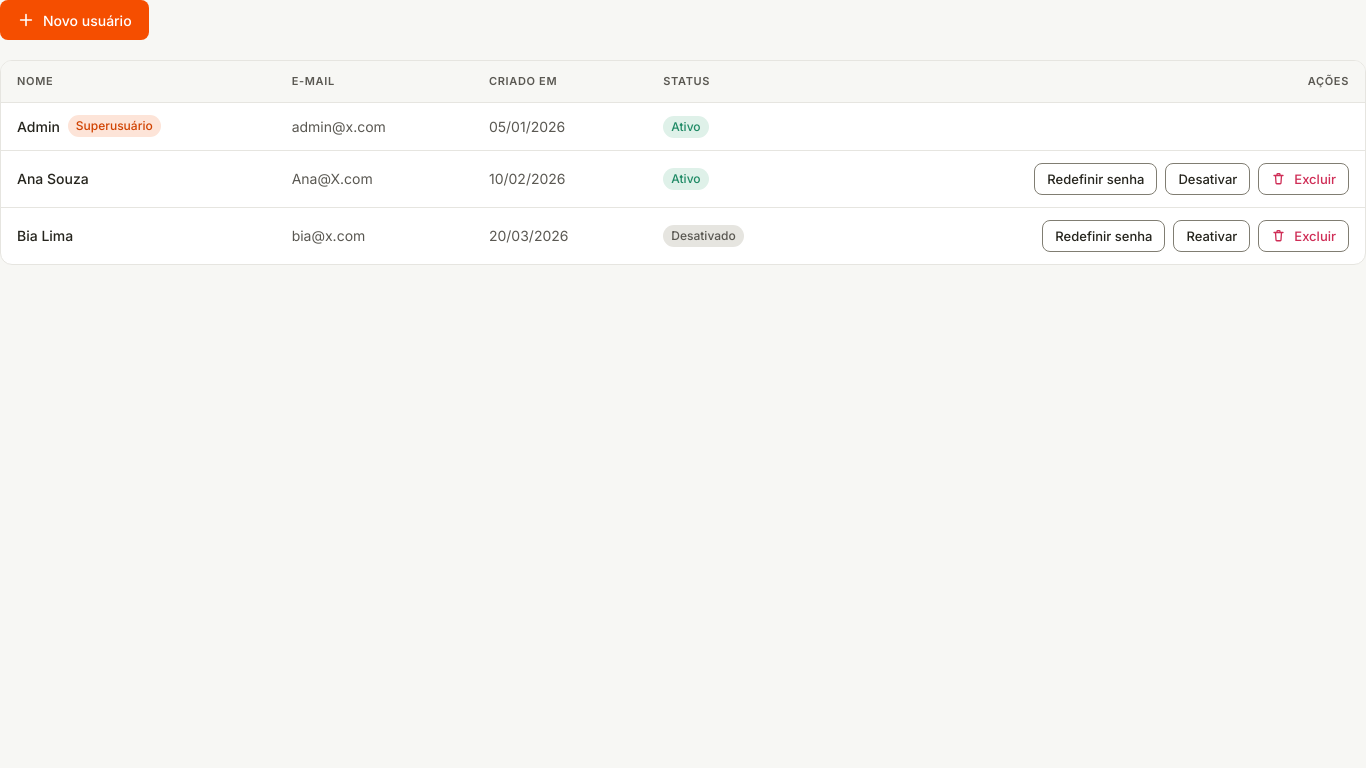
Test: UsersView: redefinir senha › erro de senha aparece no campo
Click the button with aria-label "Redefinir senha de Ana Souza": {"x": 1096, "y": 178} [1034,162,1157,194]
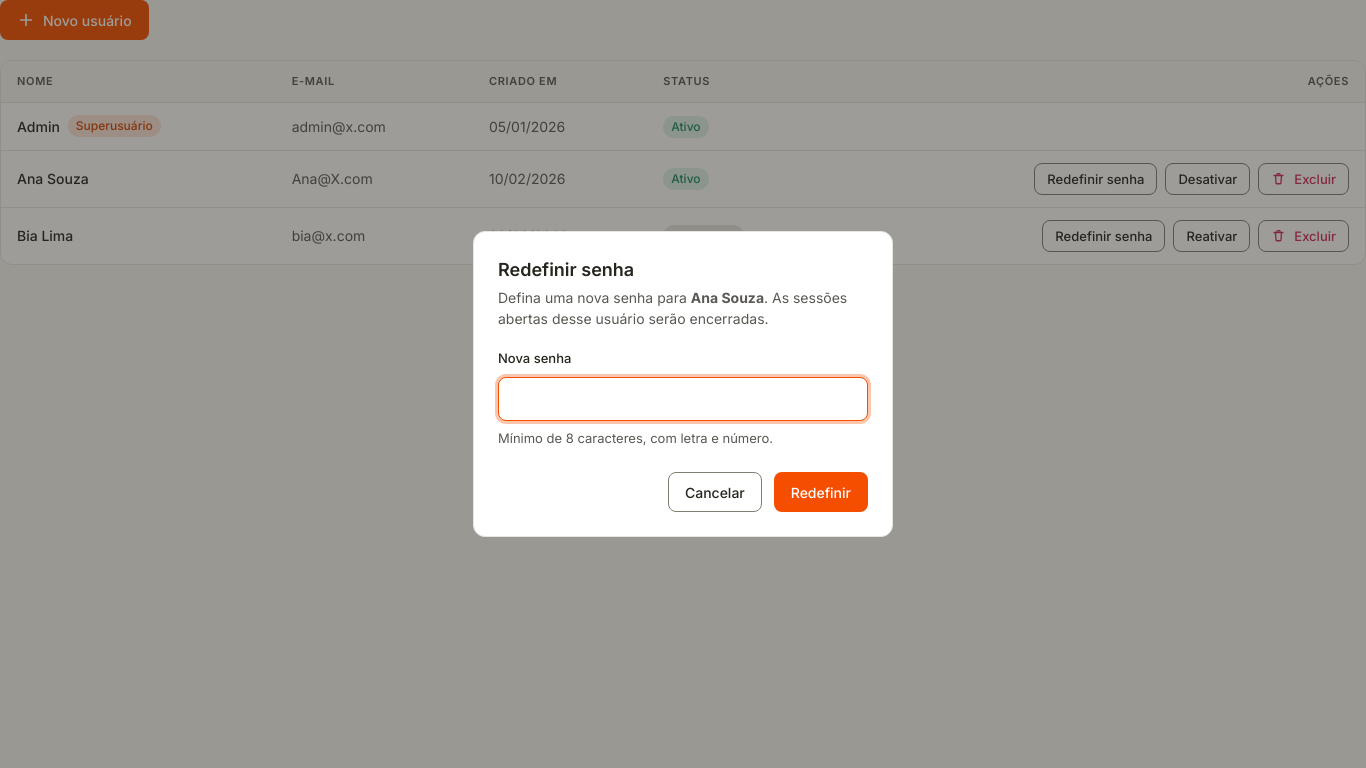
In the password field labelled "Nova senha": {"x": 683, "y": 398} [498,376,868,420], type "x"
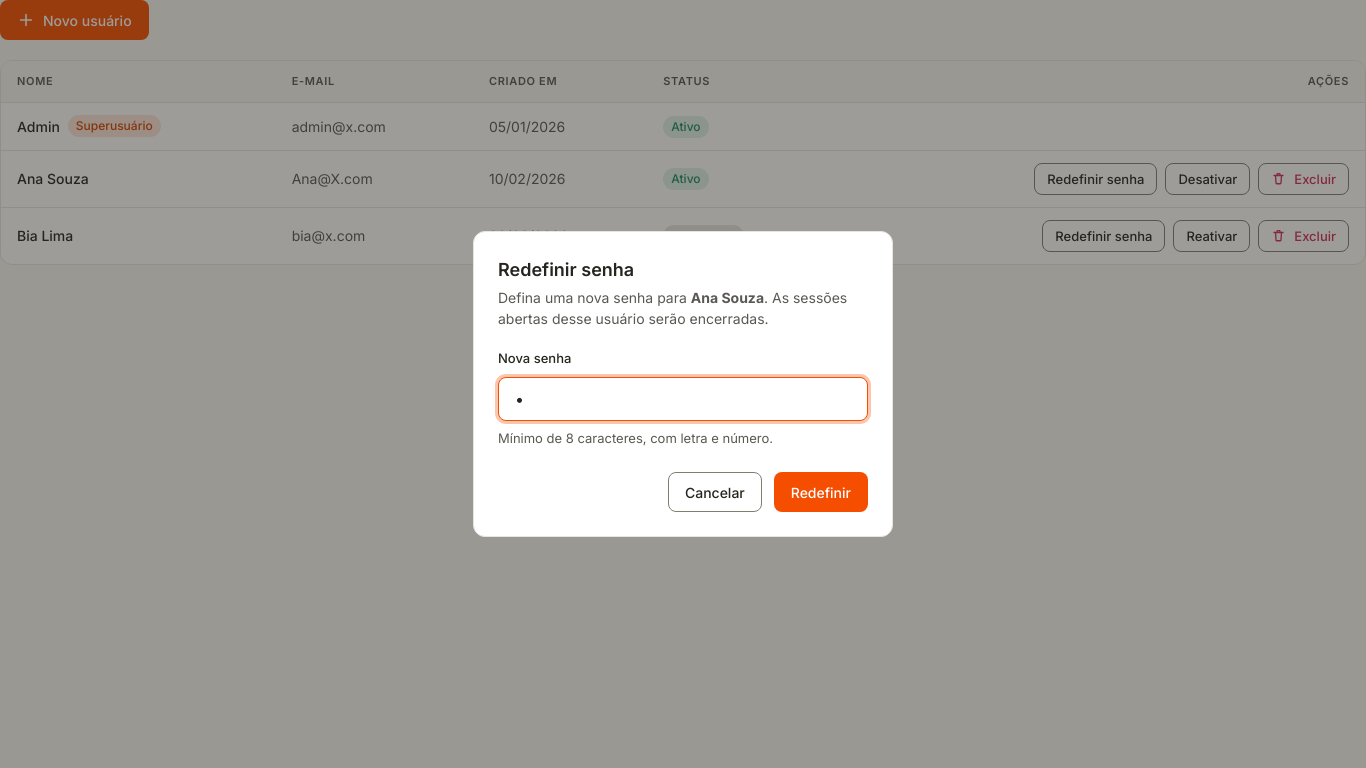
Click the button "Redefinir": {"x": 821, "y": 492} [774,472,868,512]
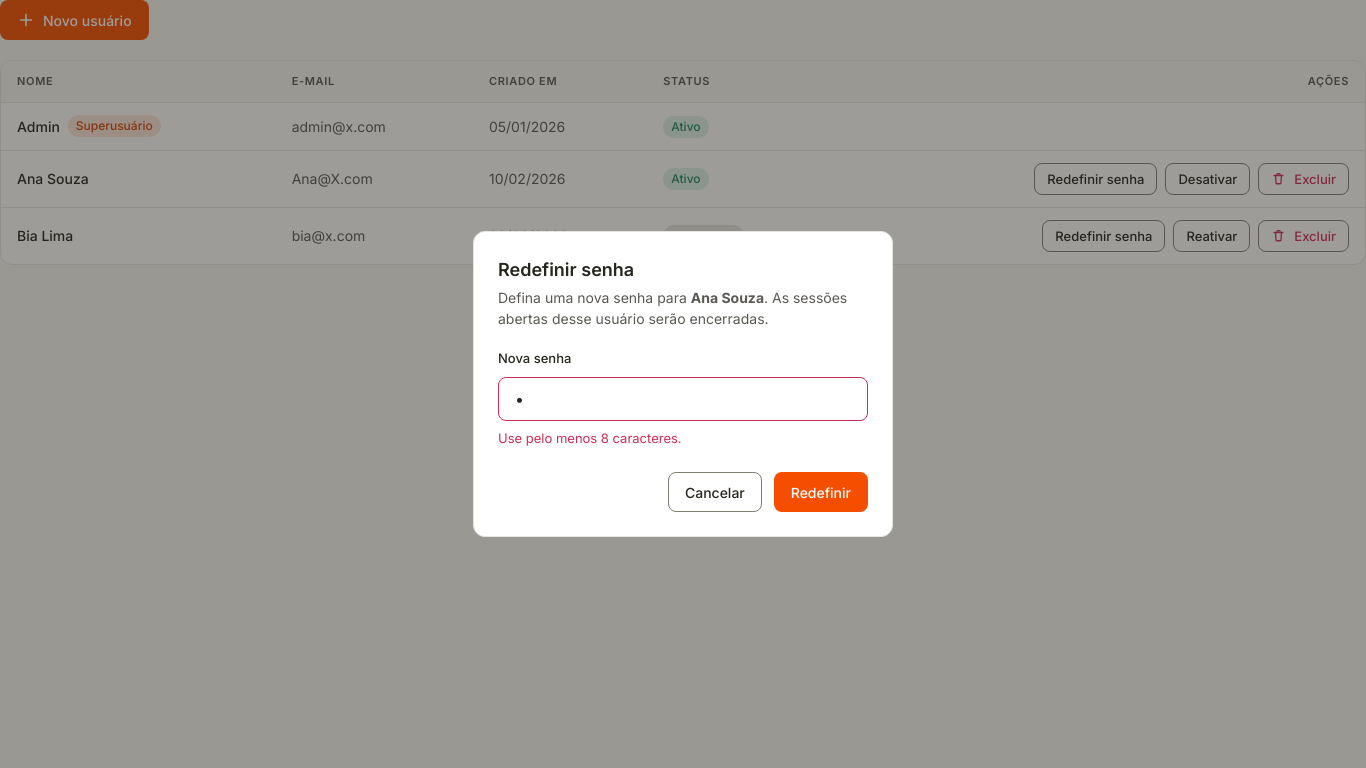
Expected: the text "Use pelo menos 8 caracteres." is shown, [498,430,682,446]
